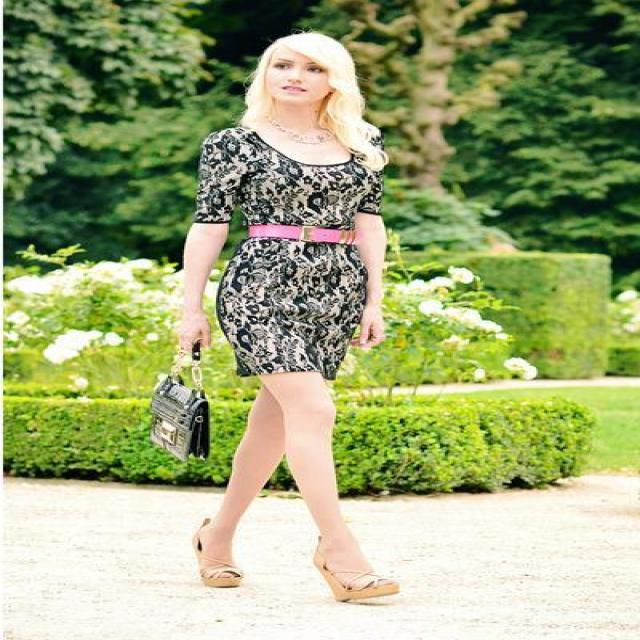bag: (147, 378, 213, 460)
dress: (173, 130, 381, 380)
shoe: (202, 563, 354, 601)
